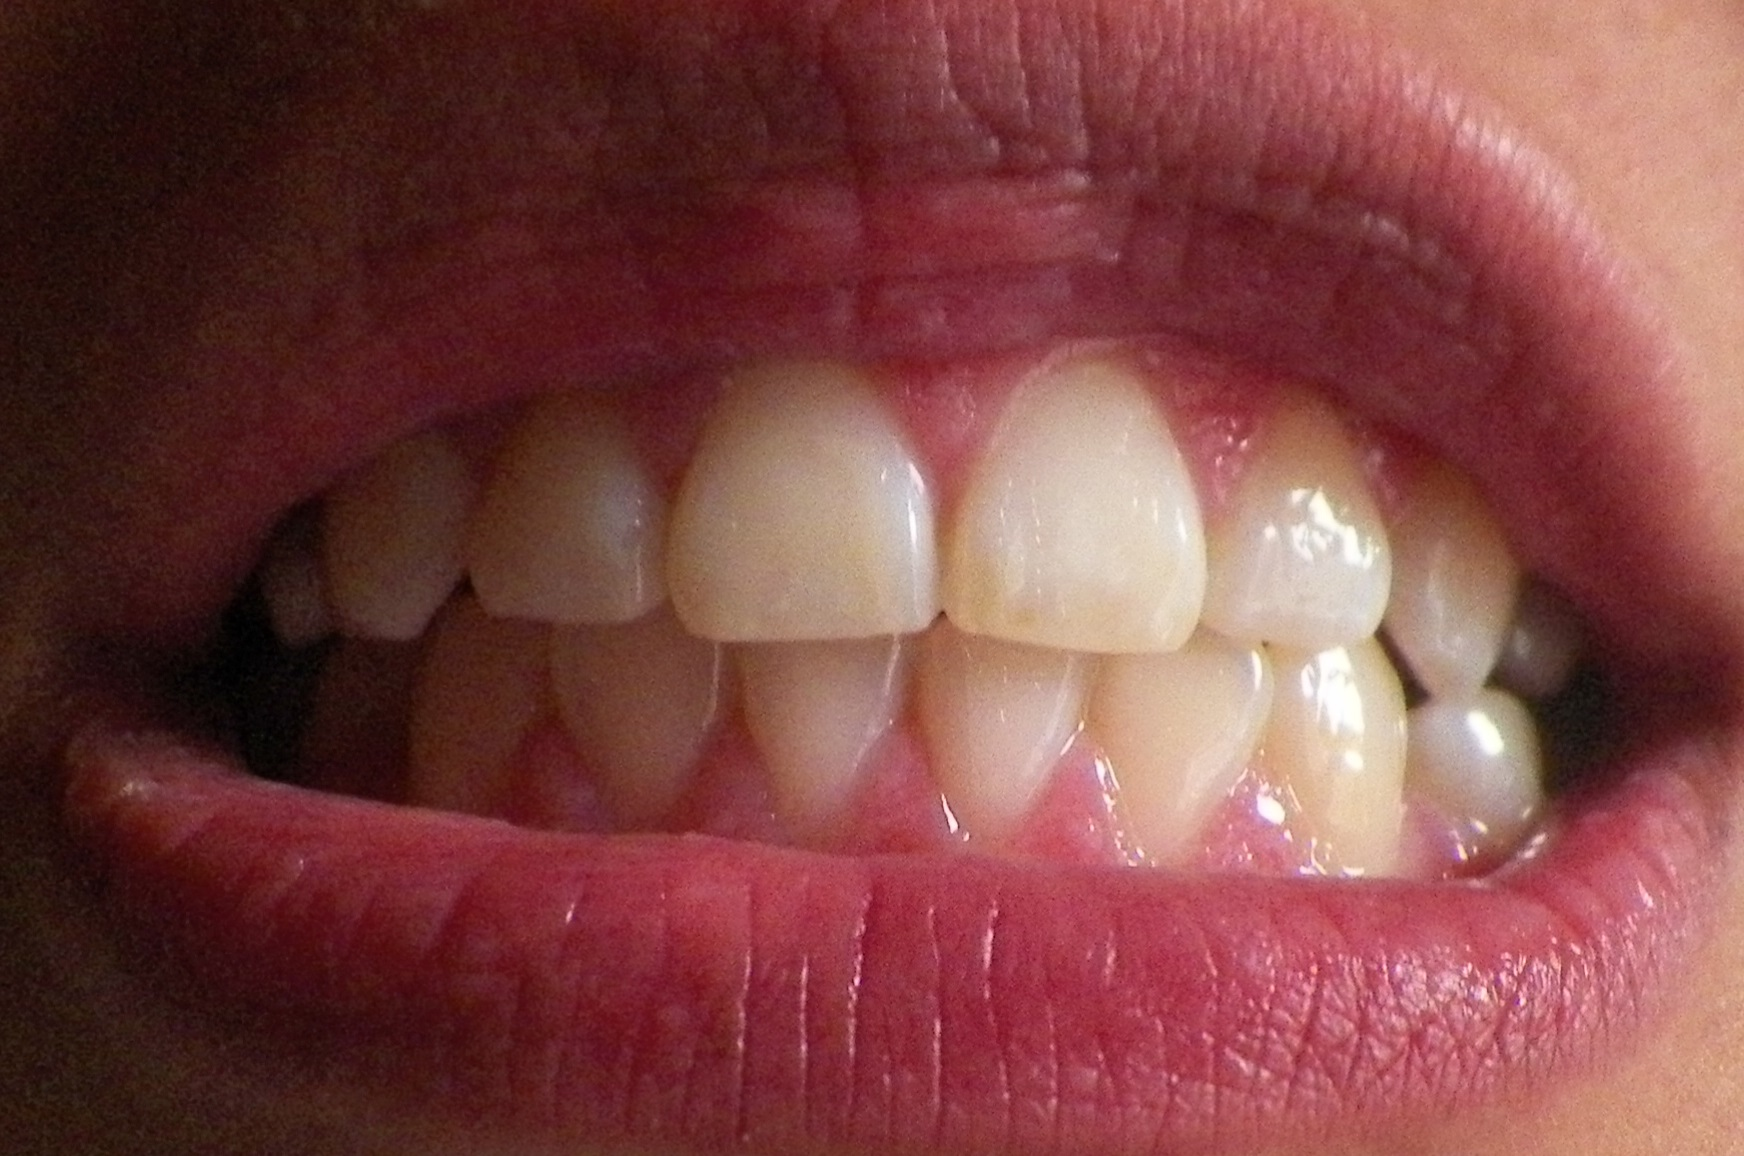boca: (258, 384, 1581, 868)
